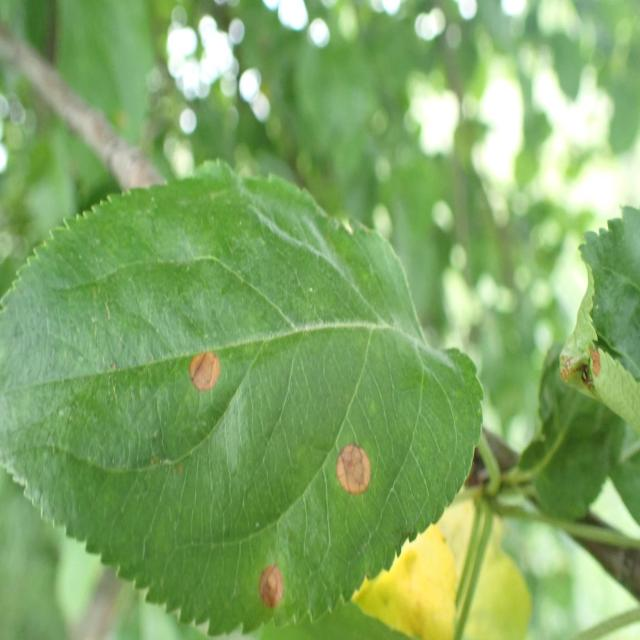Black Rot: (315, 409, 383, 503), (184, 338, 225, 421), (249, 558, 288, 616)
